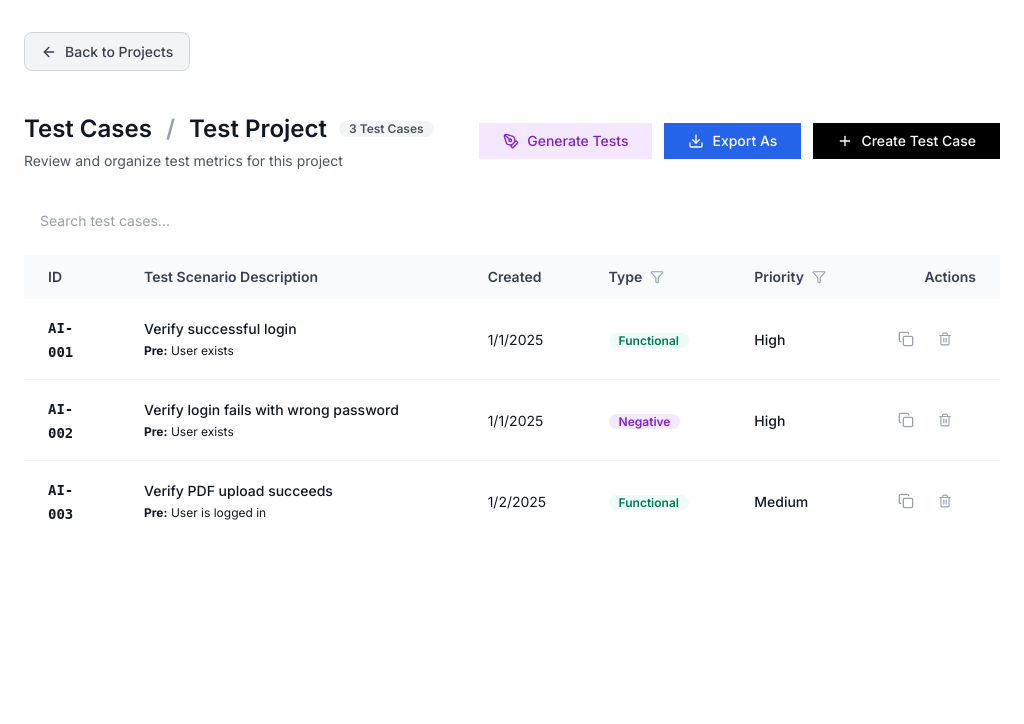
it: TestCasesView – Create manual test case modal › opens the Create modal when Create button is clicked
The image size is (1024, 724).
Click the button "Create Test Case" at (907, 141), box [813,123,1000,159]
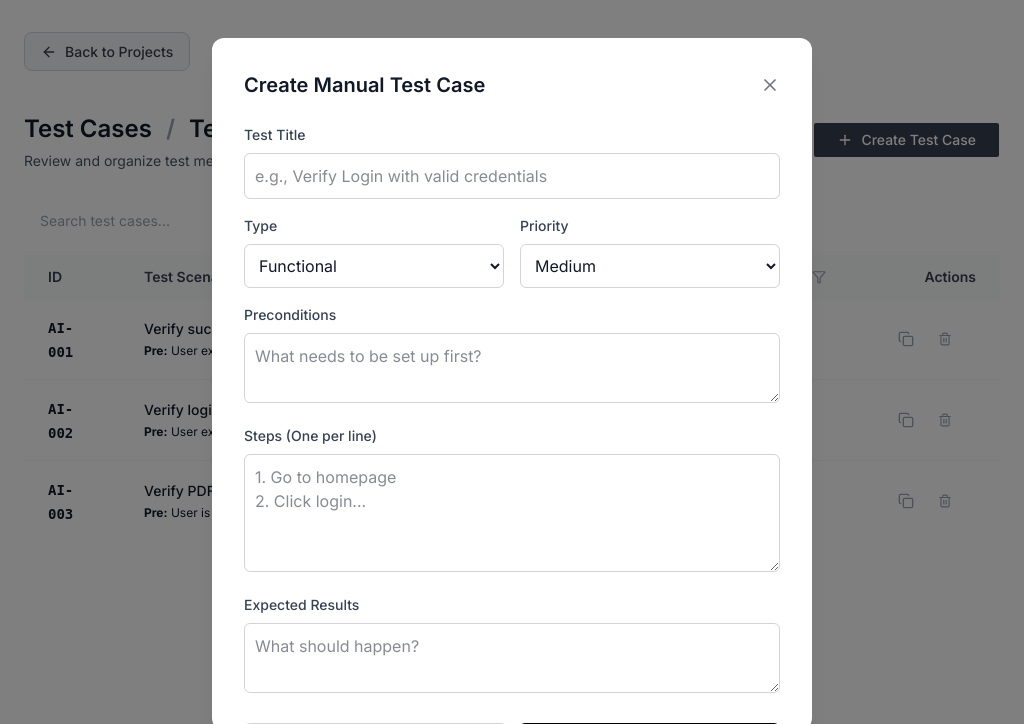
Now the heading "Create Manual Test Case" is shown, box [244,70,485,100]
